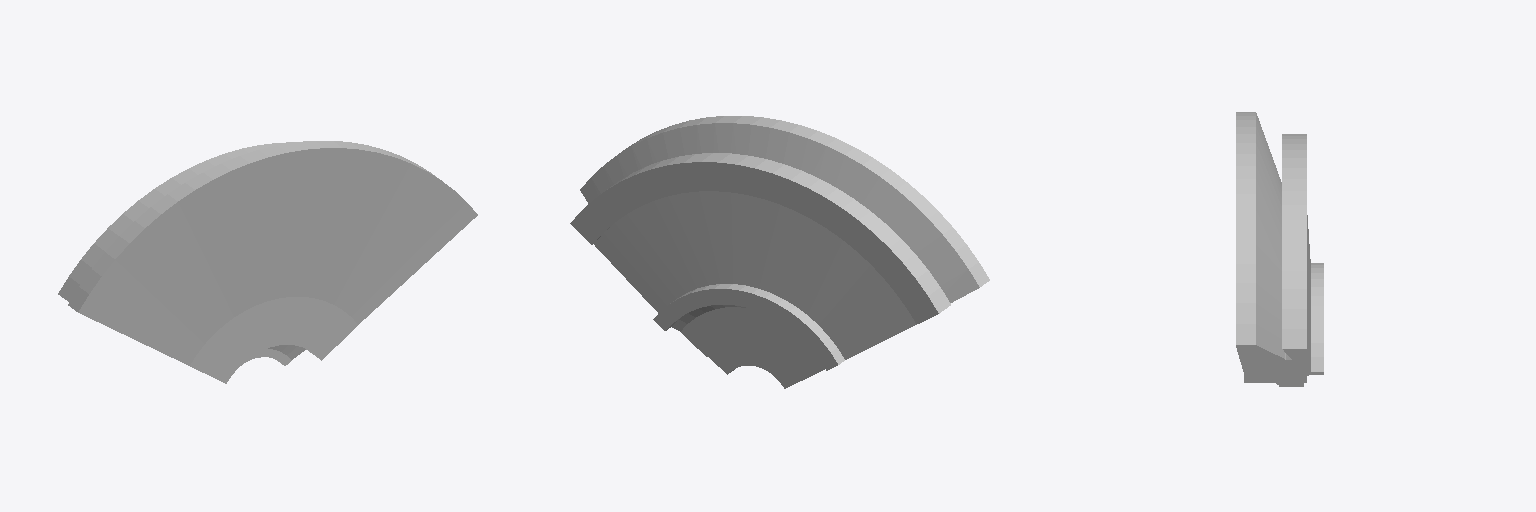
The model's file is hall.obj.
The picture shows the model from 3 angles: view 1: azimuth 30°, elevation 25°; view 2: azimuth 150°, elevation 25°; view 3: azimuth 270°, elevation 25°; orthographic projection.
Parts seen in each view (by area): view 1: ceil1_Body1.001, ceil_2_Body1.002, top_wall_Body1.022, rear_wall_Body1.023; view 2: seating_bottom_Body1.015, nosebleeds_Body1.017, walkway_Body1.016, rear_wall_Body1.023, stage_Body1.012, top_wall_Body1.022, floor_Body1.014, rear_stage_Body1.011, seating1_face_Body1.019; view 3: rear_wall_Body1.023, nosebleeds_Body1.017, top_wall_Body1.022, wall_left_Body1.003, seating1_face_Body1.019, seating_bottom_Body1.015.
Part boxes in pixels (x1,y1,x2,y2): ceil1_Body1.001: (78,148,477,365); ceil_2_Body1.002: (190,297,357,383); top_wall_Body1.022: (68,141,438,311); rear_wall_Body1.023: (58,142,293,301); seating_bottom_Body1.015: (594,191,916,359); nosebleeds_Body1.017: (580,123,979,302); walkway_Body1.016: (570,162,938,323); rear_wall_Body1.023: (607,153,950,313); stage_Body1.012: (681,307,824,380); top_wall_Body1.022: (619,116,989,286); floor_Body1.014: (653,289,837,370); rear_stage_Body1.011: (708,342,801,388); seating1_face_Body1.019: (670,284,844,364); rear_wall_Body1.023: (1282,134,1306,348); nosebleeds_Body1.017: (1256,113,1284,358); top_wall_Body1.022: (1236,112,1255,344); wall_left_Body1.003: (1236,345,1323,382); seating1_face_Body1.019: (1311,263,1323,371); seating_bottom_Body1.015: (1305,215,1310,370).
Bounding box in the file's own units: 111 × 61.9 × 21.22.